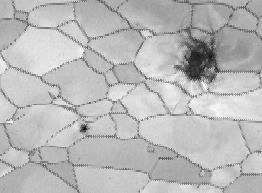good_void: (165, 18, 225, 96), (73, 119, 92, 138)
